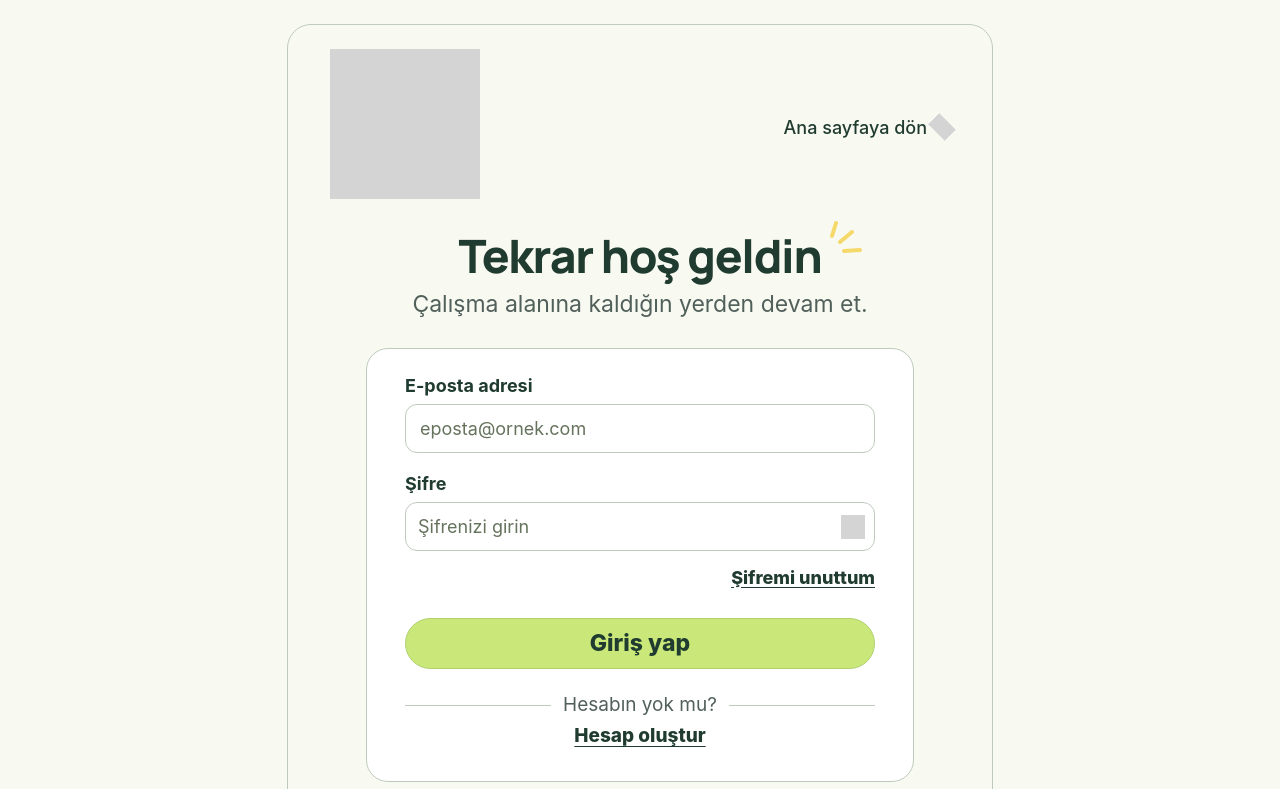
Scenario: workspace entry and session recovery › takes an approved client profile from login into the live dashboard
Type "synthetic@example.test" into the field labelled "E-posta adresi".
click(640, 428); type("synthetic@example.test")  # box [405,404,875,453]
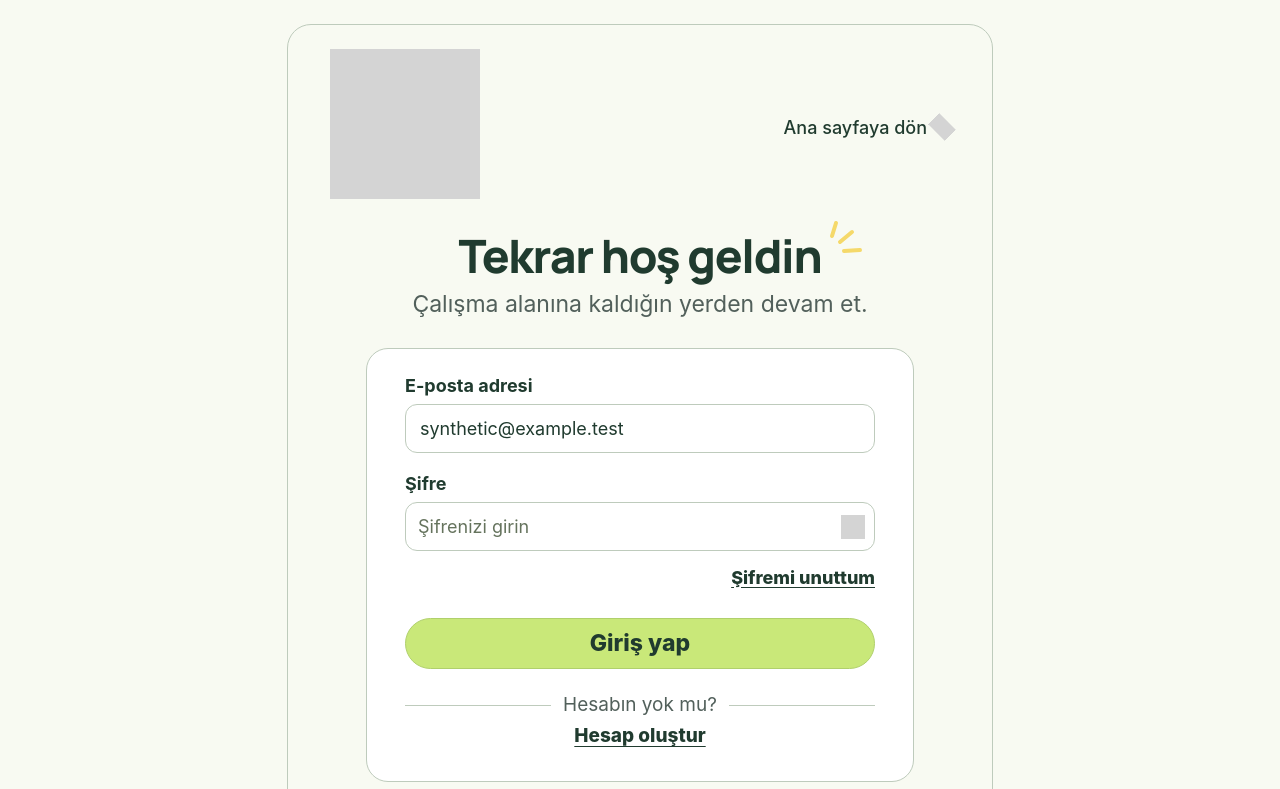
Type "synthetic password" into the password field labelled "Şifre".
click(640, 527); type("synthetic password")  # box [405,502,875,551]
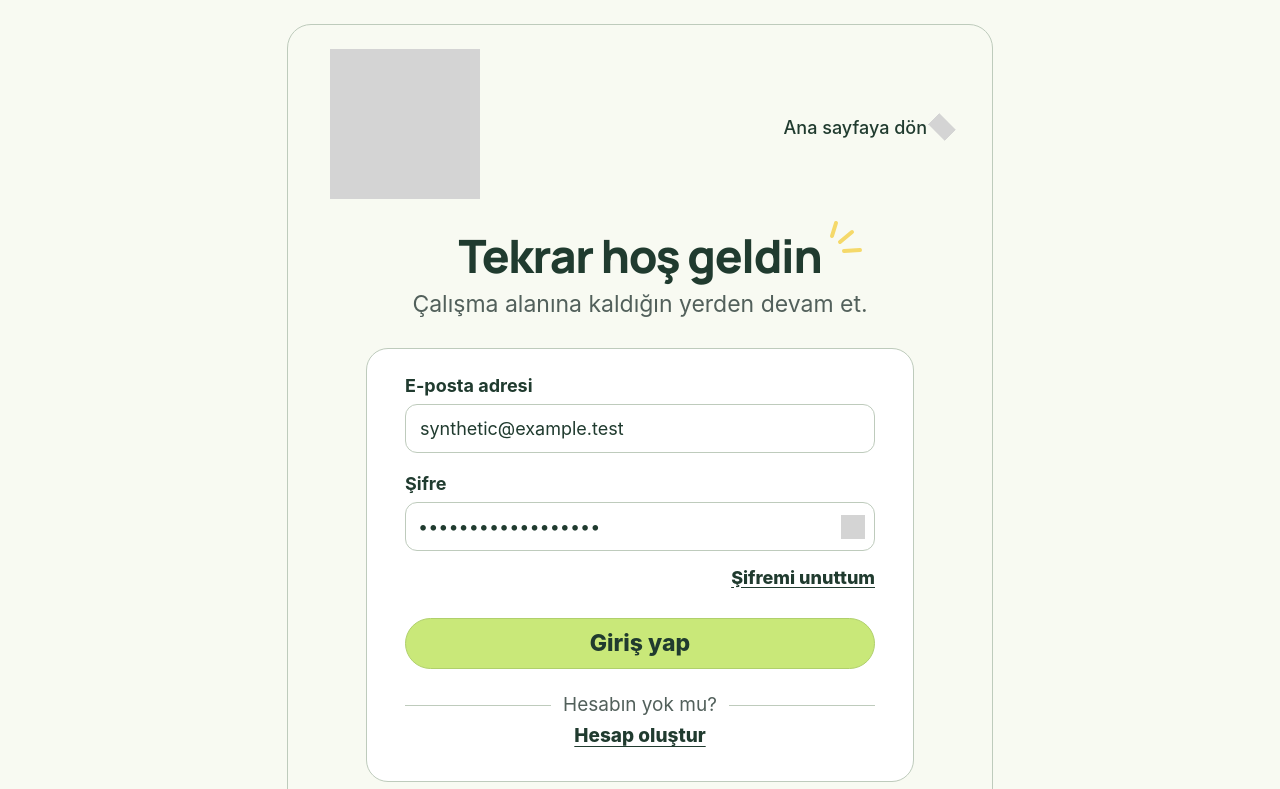
Click the button "Giriş yap".
click(640, 644)  # box [405,618,875,669]
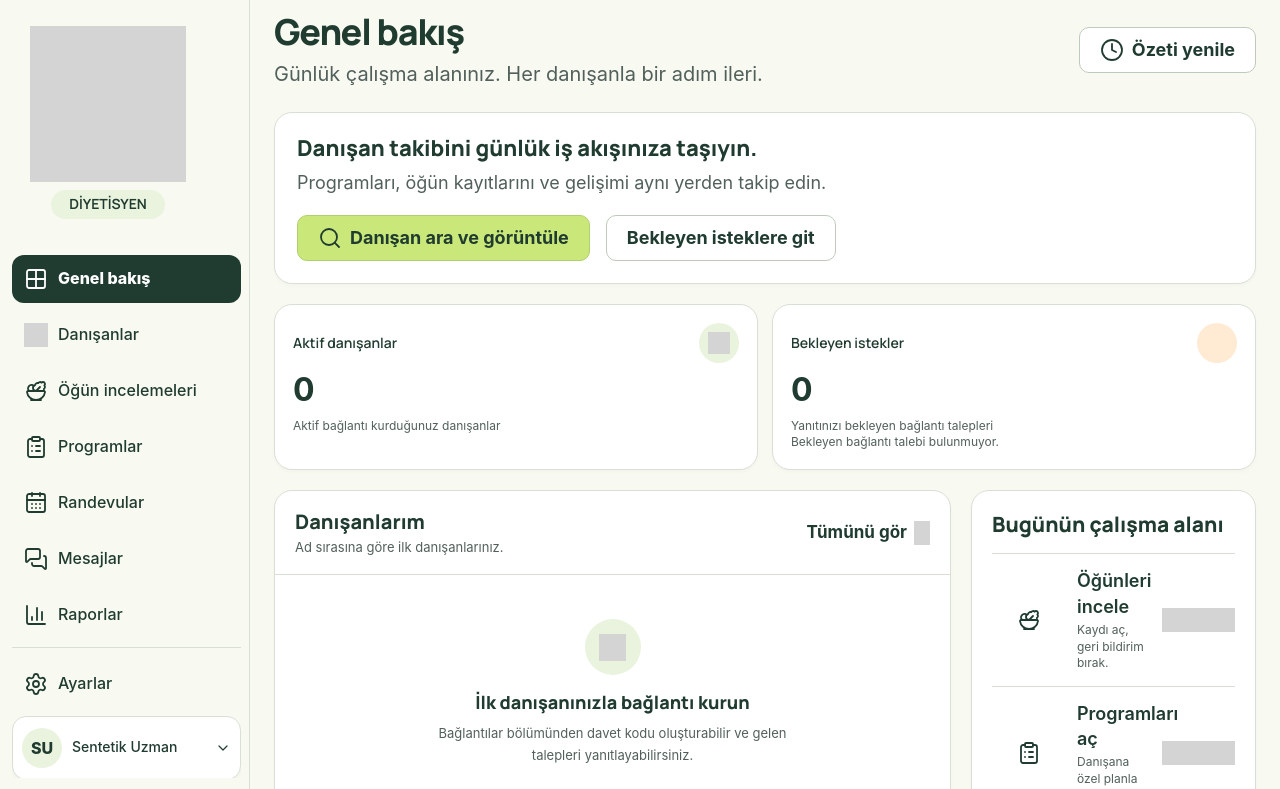
Expected: the heading "Genel bakış" is shown, [274,7,464,56]
Expected: the heading "İlk danışanınızla bağlantı kurun" is shown, [475,691,750,714]
Expected: the text "0" is shown 2 times, [293,370,315,409]; [791,370,813,409]
